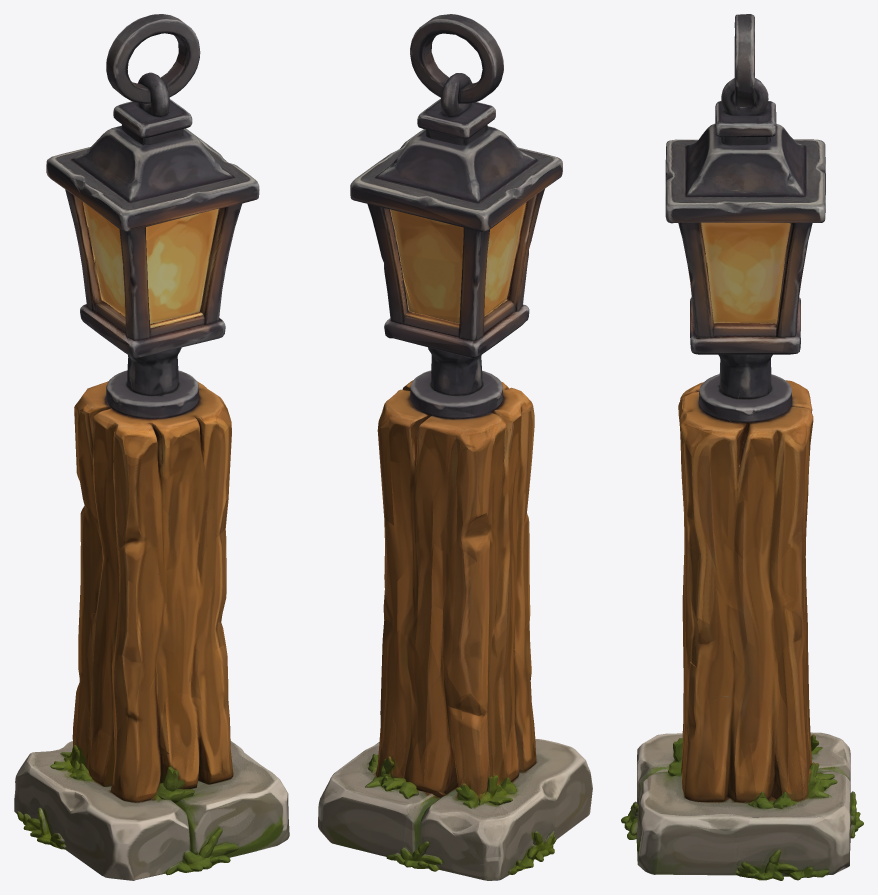
The model's file is lantern_v2.glb.
The picture shows the model from 3 angles, left to right: view 1: azimuth 30°, elevation 25°; view 2: azimuth 150°, elevation 25°; view 3: azimuth 270°, elevation 25°; orthographic projection.
Bounding box in the file's own units: 0.5278 × 1.9 × 0.5164.
1 material, 1 textured.
